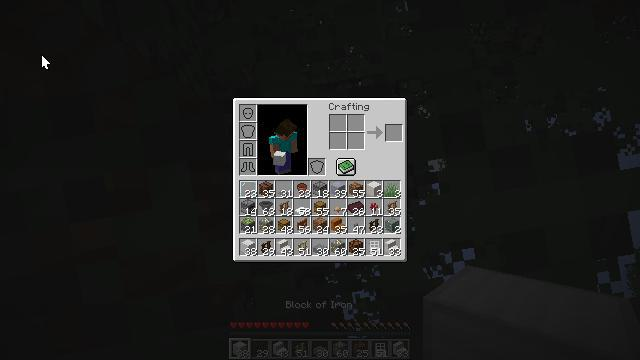cursor: (54, 41, 70, 51)
